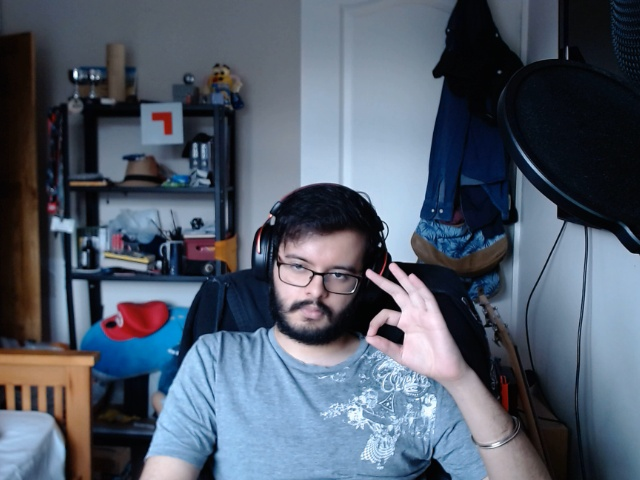Okay: (359, 260, 461, 396)
